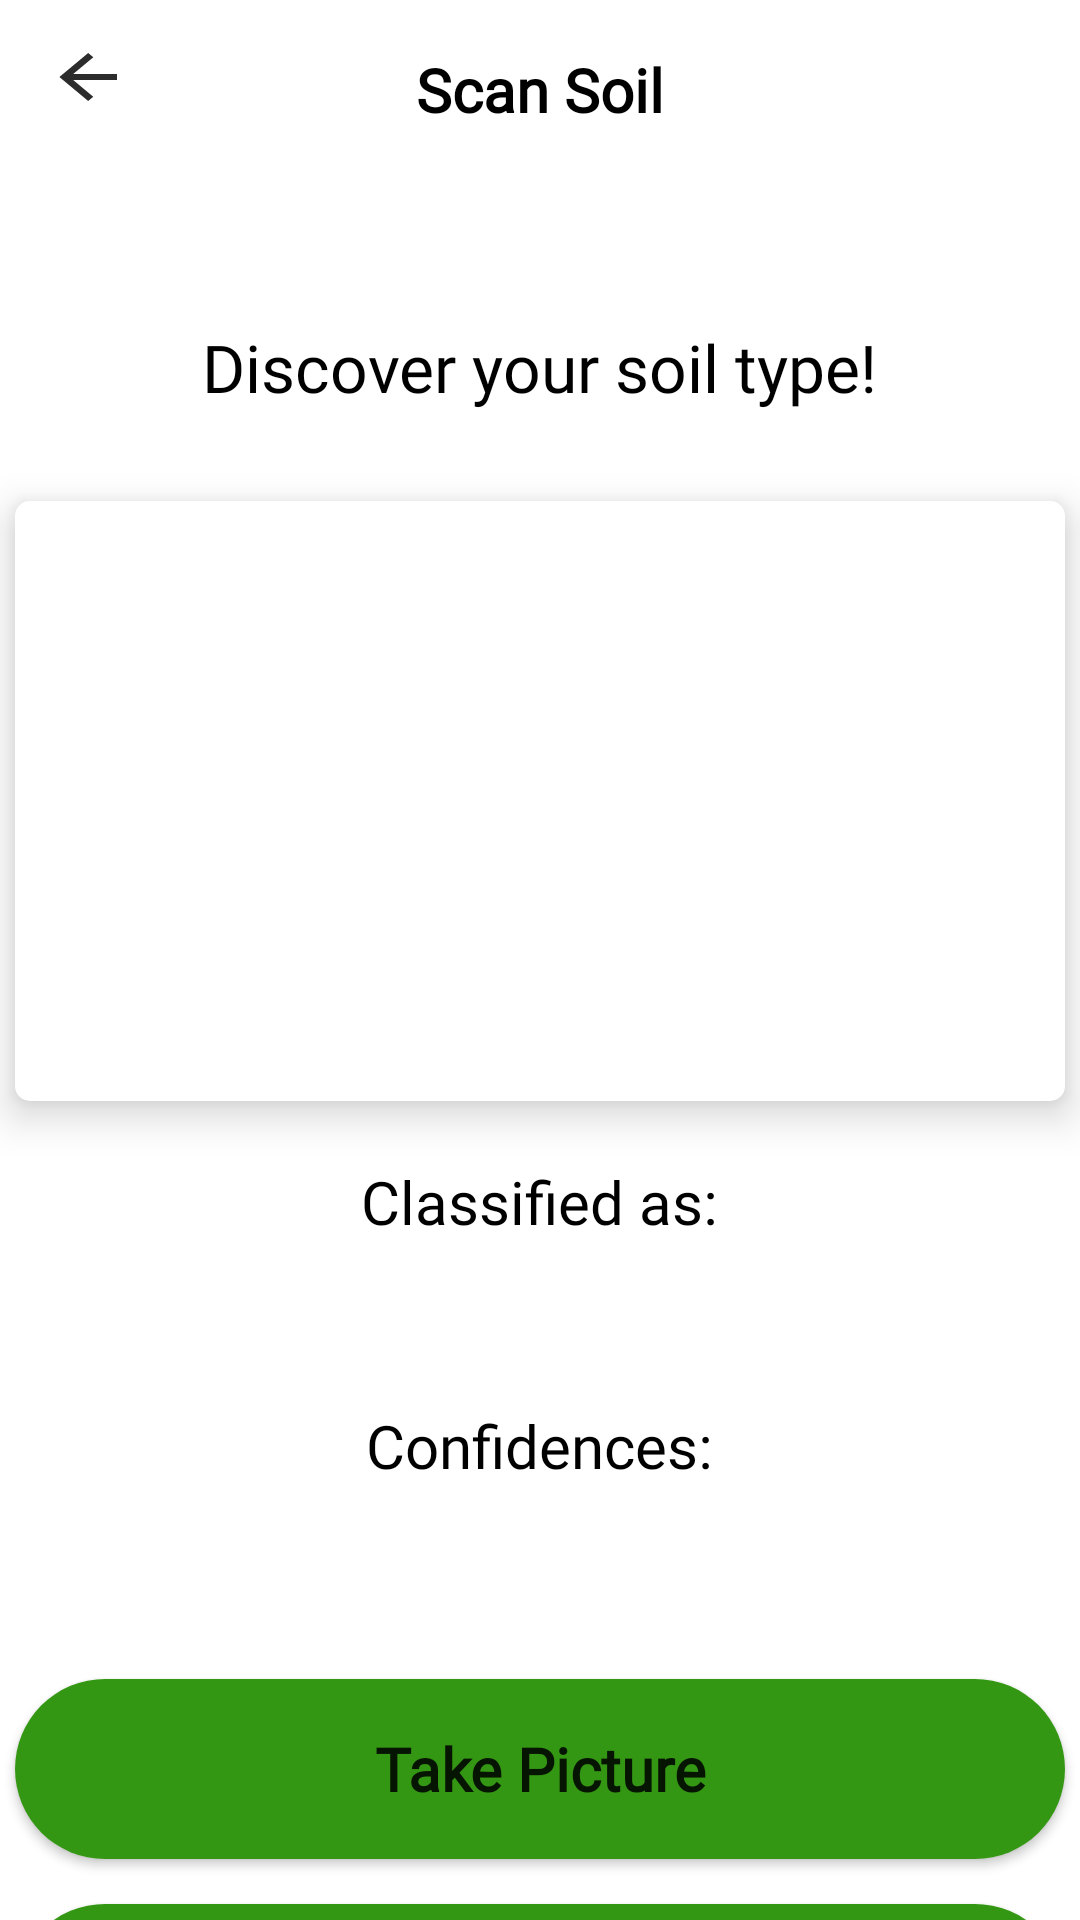

Named icons in this screenshot (1080px×1920px) and their bounding boxes, bbox=[x1, y1, x2, y2]:
arrow back: bbox=[59, 53, 117, 101]
